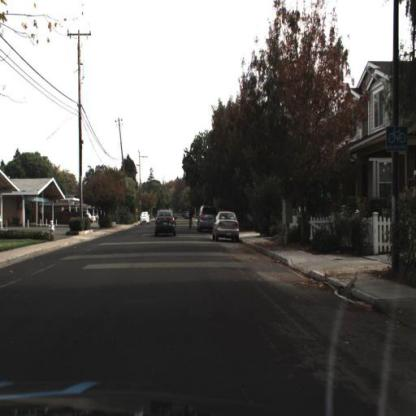biker: (187, 206, 195, 235)
car: (153, 203, 182, 240), (212, 208, 241, 245), (196, 202, 217, 235), (138, 208, 153, 231)
